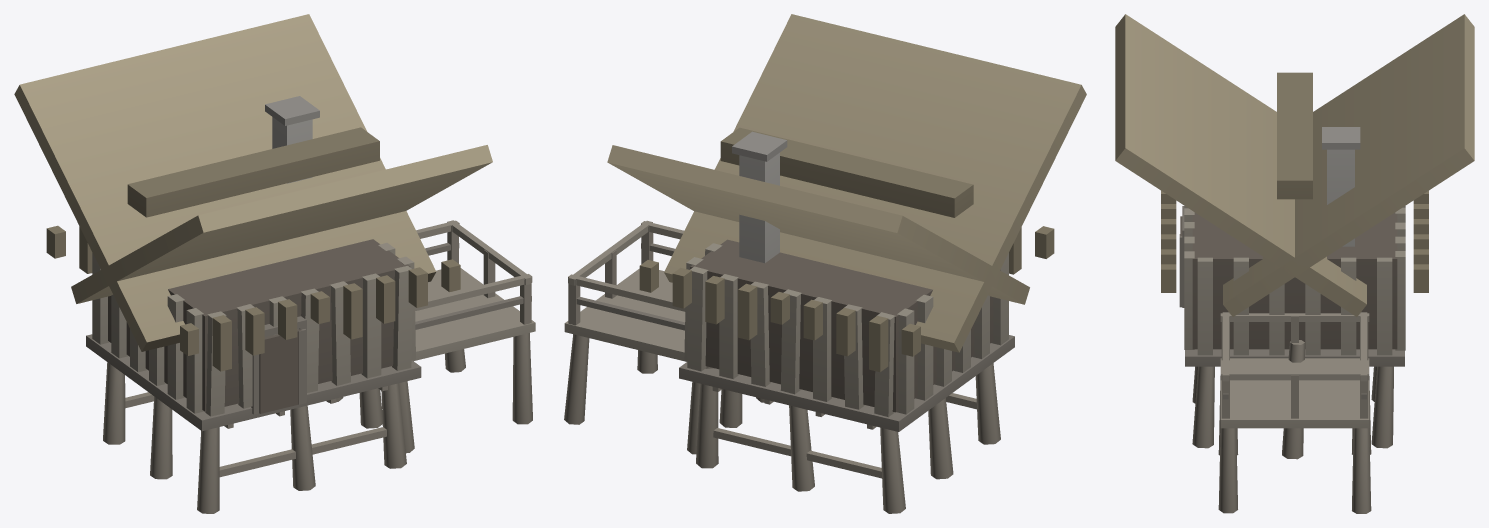
File: hut-inverted-roof.glb
3 views of the same model, side by side, from view 1: azimuth 30°, elevation 25°; view 2: azimuth 150°, elevation 25°; view 3: azimuth 270°, elevation 25° (orthographic). The views are drawn at different scales.
Visible parts, largest first — view 1: hut; view 2: hut; view 3: hut.
Part boxes in pixels (x1,y1,x2,y2): hut: [14, 14, 535, 513]; hut: [564, 14, 1086, 513]; hut: [1115, 14, 1474, 513].
Size of the model in its own units: 8.34 by 6.91 by 7.02.
